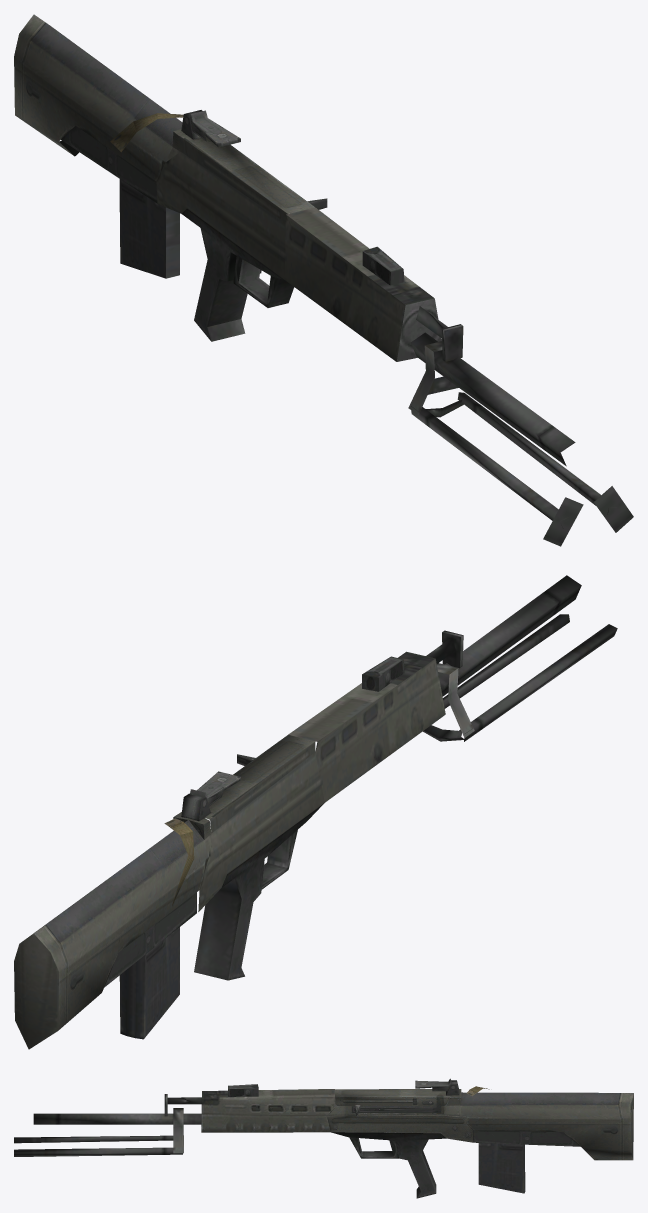
File: Sniper_Rifle_TP_qub88_lod2_Body_LOD_(000876).glb
The picture shows the model from 3 angles, top to bottom: view 1: azimuth 30°, elevation 25°; view 2: azimuth 150°, elevation 25°; view 3: azimuth 270°, elevation 25°; orthographic projection. The views are drawn at different scales.
Parts seen in each view (by area): view 1: TP_qub88_lod2; view 2: TP_qub88_lod2; view 3: TP_qub88_lod2.
Part boxes in pixels (box(x1,y1,x2,y2)): TP_qub88_lod2: box(14, 14, 633, 546); TP_qub88_lod2: box(14, 575, 617, 1049); TP_qub88_lod2: box(14, 1078, 633, 1198).
Bounding box in the file's own units: 0.1047 × 0.2237 × 1.11.
1 material, 1 textured.
